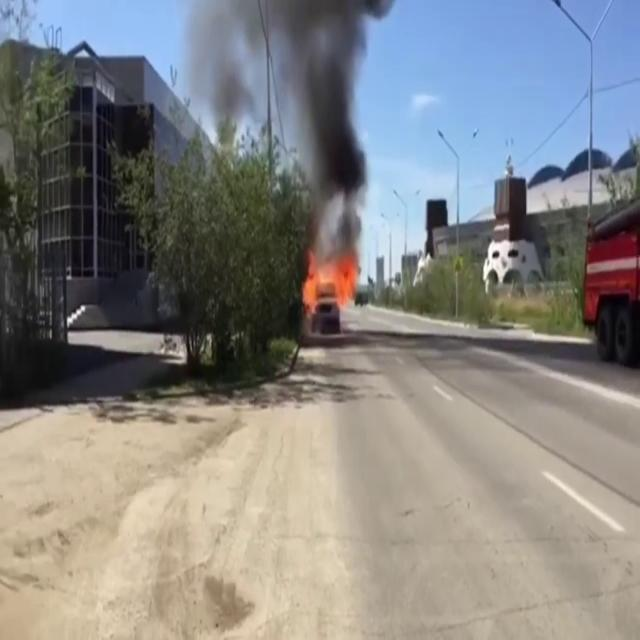Fire: (300, 248, 362, 318)
Smoke: (279, 0, 376, 248), (187, 0, 316, 145)
